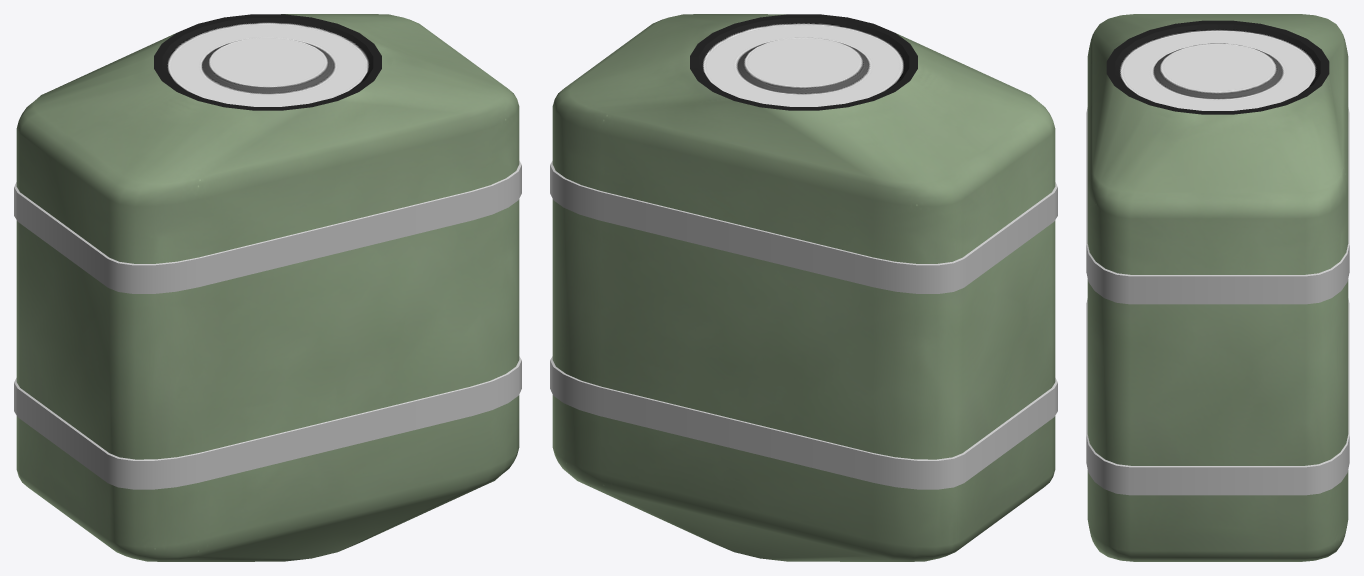
Rendered from hangar-extension-L.fbx.
3 renders of one model, left to right at view 1: azimuth 30°, elevation 25°; view 2: azimuth 150°, elevation 25°; view 3: azimuth 270°, elevation 25°, orthographic. The views are drawn at different scales.
Parts seen in each view (by area): view 1: hangar-extension-L, stripe_001, stripe; view 2: hangar-extension-L, stripe_001, stripe; view 3: hangar-extension-L, stripe_001, stripe.
Boxes of the visible parts, x1=… form: hangar-extension-L: x1=16, y1=14, x2=519, y2=561; stripe_001: x1=14, y1=356, x2=521, y2=489; stripe: x1=14, y1=161, x2=521, y2=293; hangar-extension-L: x1=552, y1=14, x2=1055, y2=561; stripe_001: x1=550, y1=356, x2=1057, y2=489; stripe: x1=550, y1=161, x2=1057, y2=293; hangar-extension-L: x1=1087, y1=14, x2=1348, y2=561; stripe_001: x1=1086, y1=298, x2=1349, y2=495; stripe: x1=1086, y1=107, x2=1349, y2=304.
Size of what is drawn, in the model's own units: 5.05 by 5.3 by 2.87.
3 materials, 1 textured.
